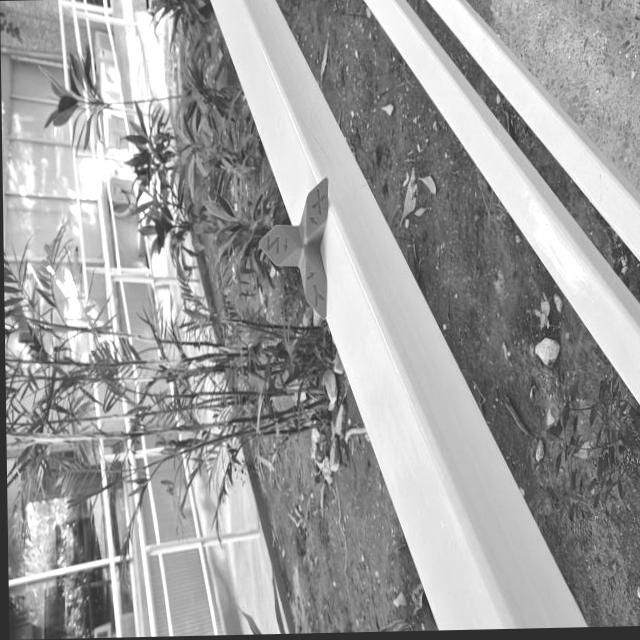eje: (257, 174, 332, 322)
